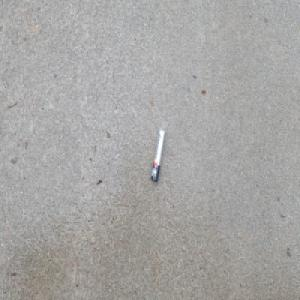Battery: (150, 127, 165, 182)
